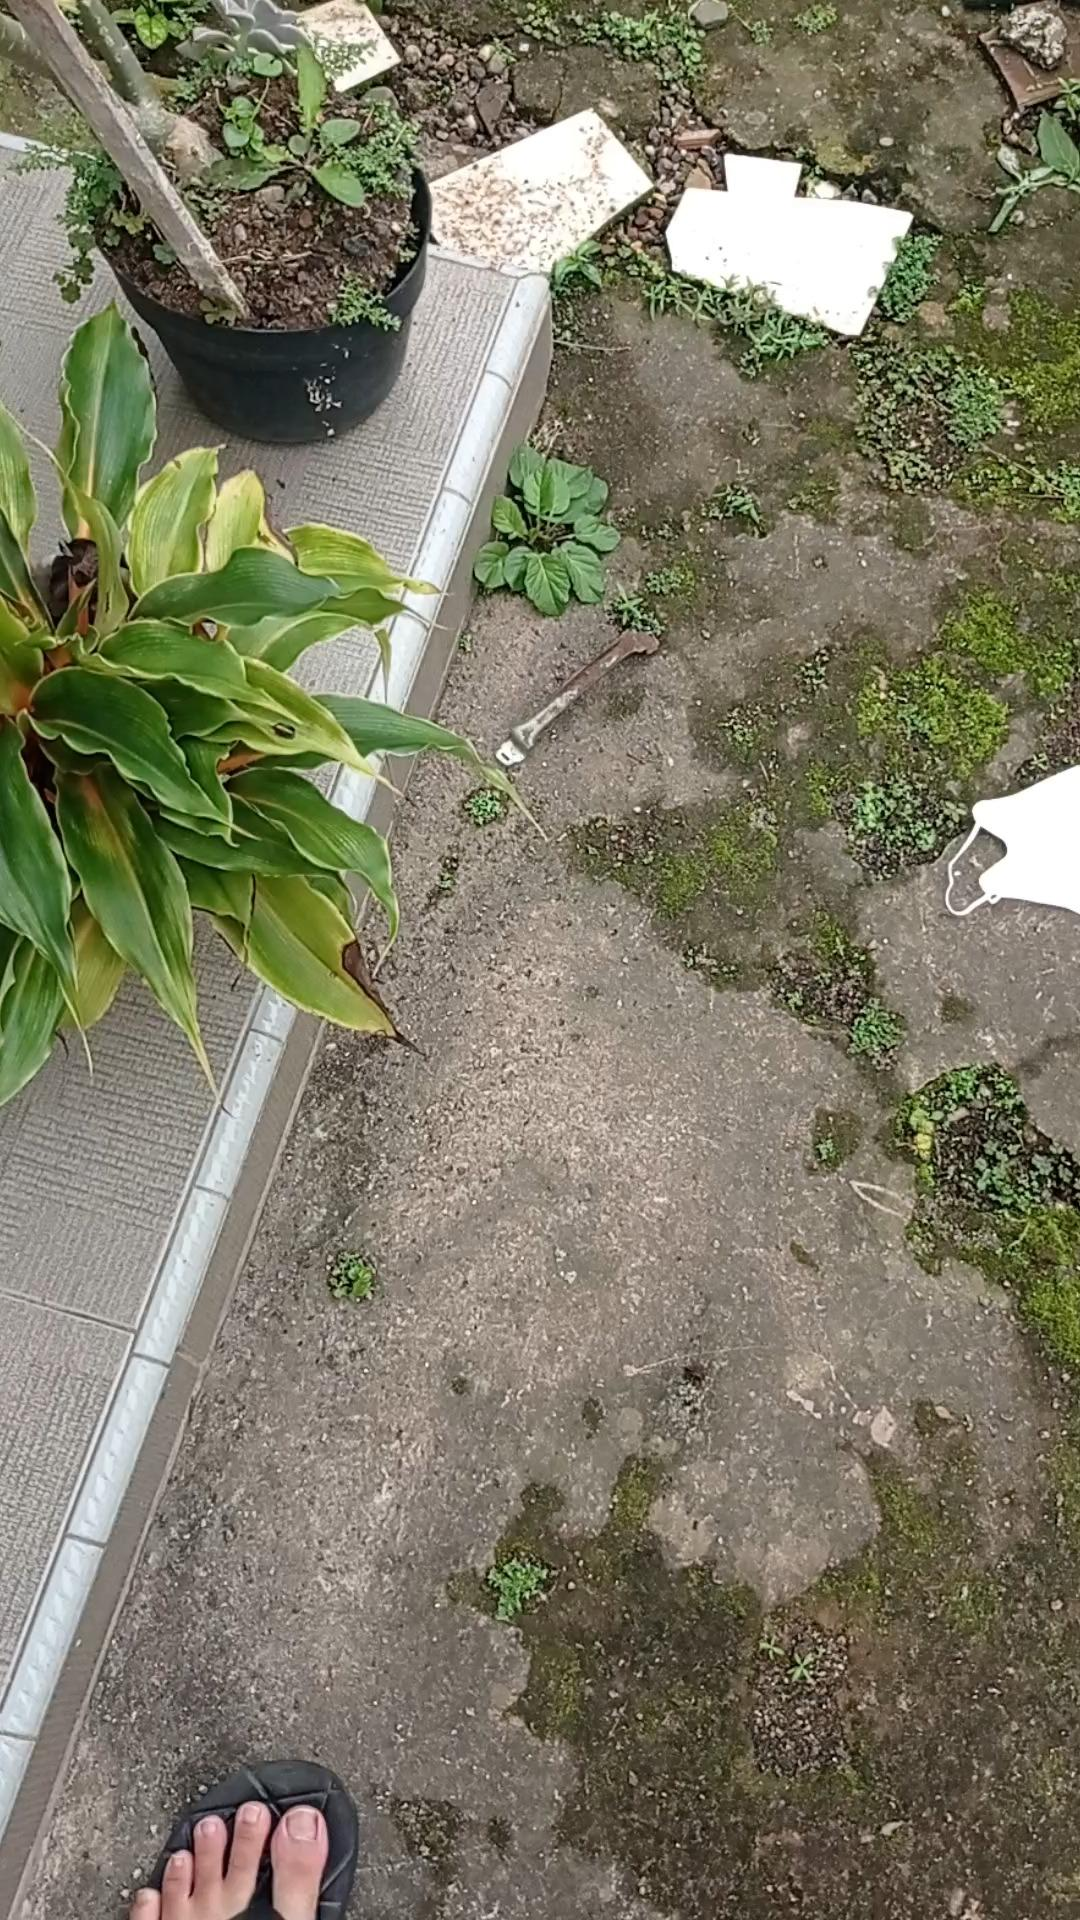face_mask: (942, 752, 1080, 932)
